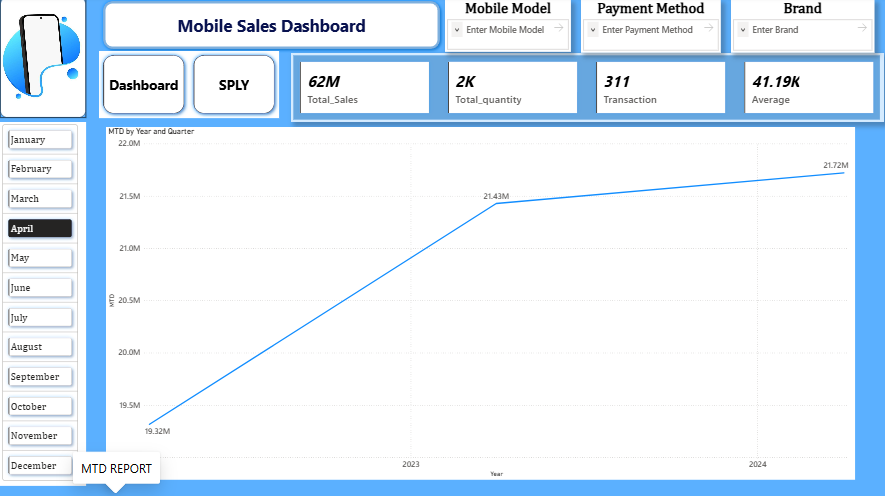

The dashboard page shown, as its layout file describes it:
{"tool":"powerbi","page":{"name":"MTD REPORT","canvas":[1920,1080],"ordinal":1},"visuals":[{"type":"image","box":[0,0,185.8,261.4],"z":0},{"type":"cardVisual","fields":{"Data":["Sales_data.Total_Sales","Sales_data.Total_quantity","Sales_data.Transaction","Sales_data.Average"]},"box":[628.6,121,1280.9,149],"z":1000},{"type":"textSlicer","fields":{"Values":["Sales_data.Payment Method"]},"box":[1256,6,302,114],"z":2000},{"type":"textSlicer","fields":{"Values":["Sales_data.Brand"]},"box":[1580,6,310,114],"z":3000},{"type":"shape","box":[213.8,0,745.2,121],"z":4000},{"type":"lineChart","fields":{"Y":["Sales_data.MTD"],"Category":["Custom_Calender.Date.Variation.Date Hierarchy.Year","Custom_Calender.Date.Variation.Date Hierarchy.Quarter","Custom_Calender.Date.Variation.Date Hierarchy.Month","Custom_Calender.Date.Variation.Date Hierarchy.Day"]},"box":[229,280.8,1617.8,762.5],"z":5000},{"type":"advancedSlicerVisual","fields":{"Values":["Custom_Calender.Date.Variation.Date Hierarchy.Month"]},"box":[0,270,186,786],"z":6000},{"type":"pageNavigator","box":[213.8,116.6,388.8,144.7],"z":7000},{"type":"textSlicer","fields":{"Values":["Sales_data.Mobile Model"]},"box":[962,6,272,112],"z":8000}]}

Visuals, with their boxes in screenshot pixels (x1, y1, x2, y2), scaled from the page's 1920x1080 canvas onto the 885x496 screenshot:
image: (left=0, top=0, right=86, bottom=120)
cardVisual - Sales_data.Total_Sales x Sales_data.Total_quantity: (left=290, top=56, right=880, bottom=124)
textSlicer - Sales_data.Payment Method: (left=579, top=3, right=718, bottom=55)
textSlicer - Sales_data.Brand: (left=728, top=3, right=871, bottom=55)
shape: (left=99, top=0, right=442, bottom=56)
lineChart - Sales_data.MTD x Custom_Calender.Date.Variation.Date Hierarchy.Year: (left=106, top=129, right=851, bottom=479)
advancedSlicerVisual - Custom_Calender.Date.Variation.Date Hierarchy.Month: (left=0, top=124, right=86, bottom=485)
pageNavigator: (left=99, top=54, right=278, bottom=120)
textSlicer - Sales_data.Mobile Model: (left=443, top=3, right=569, bottom=54)
